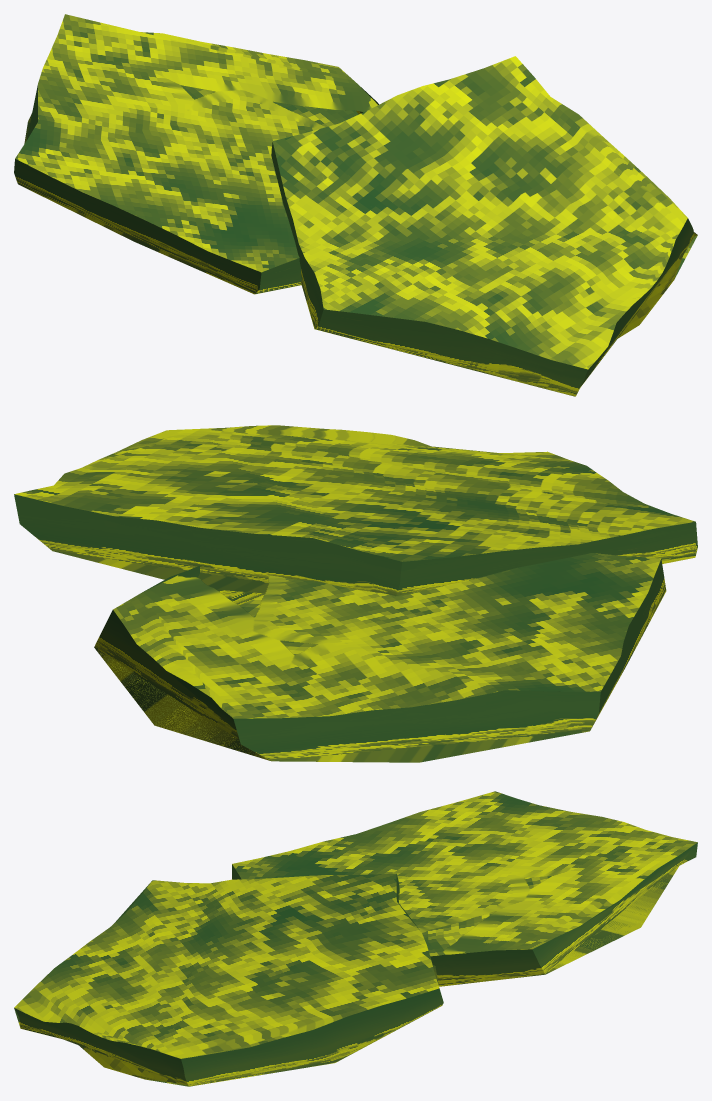
The model's file is Plate Coral 3.fbx.
The picture shows the model from 3 angles, top to bottom: view 1: azimuth 30°, elevation 25°; view 2: azimuth 150°, elevation 25°; view 3: azimuth 270°, elevation 25°; orthographic projection. The views are drawn at different scales.
Visible parts, largest first — view 1: Cylinder.001; view 2: Cylinder.001; view 3: Cylinder.001.
Part boxes in pixels (left/top/right/bottom): Cylinder.001: left=14, top=14, right=697, bottom=396; Cylinder.001: left=14, top=425, right=697, bottom=762; Cylinder.001: left=14, top=791, right=697, bottom=1086.
Size of the model in its own units: 29.02 by 7.61 by 37.15.
Materials: 2 (2 with a texture image).
